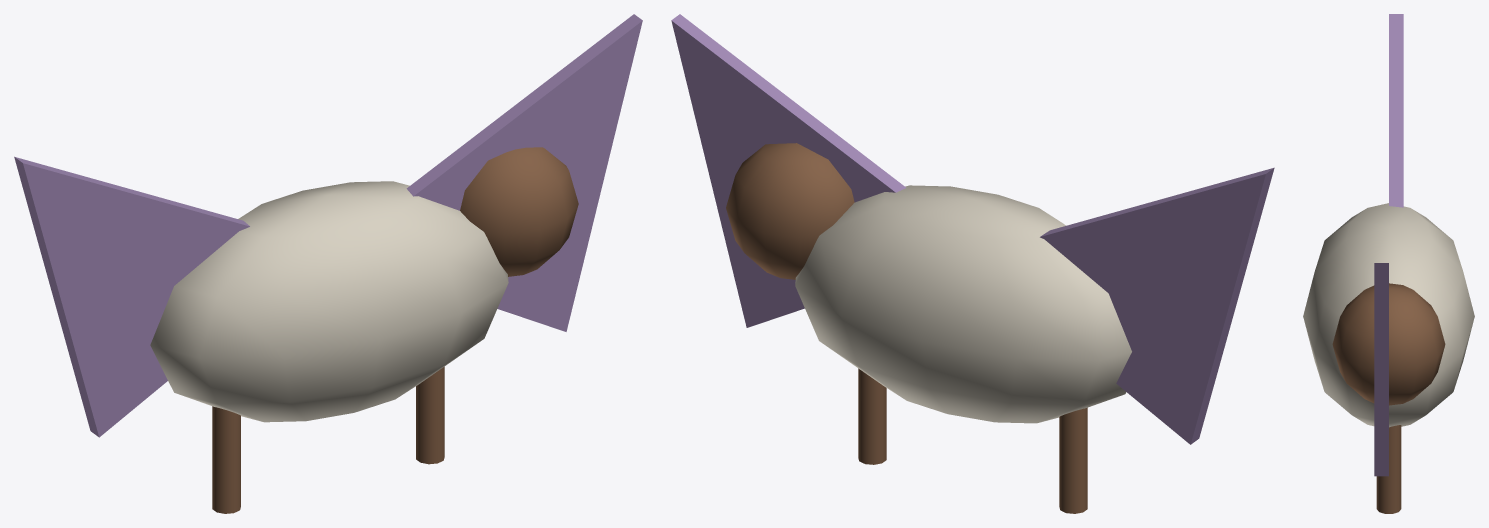
The model's file is bat.glb.
3 renders of one model, left to right at view 1: azimuth 30°, elevation 25°; view 2: azimuth 150°, elevation 25°; view 3: azimuth 270°, elevation 25°, orthographic. The views are drawn at different scales.
Parts seen in each view (by area): view 1: bat; view 2: bat; view 3: bat.
Part boxes in pixels (<box>): bat: <box>14,14,642,513</box>; bat: <box>671,14,1274,513</box>; bat: <box>1303,14,1474,513</box>.
Size of the model in its own units: 0.54 by 0.333 by 0.1575.
